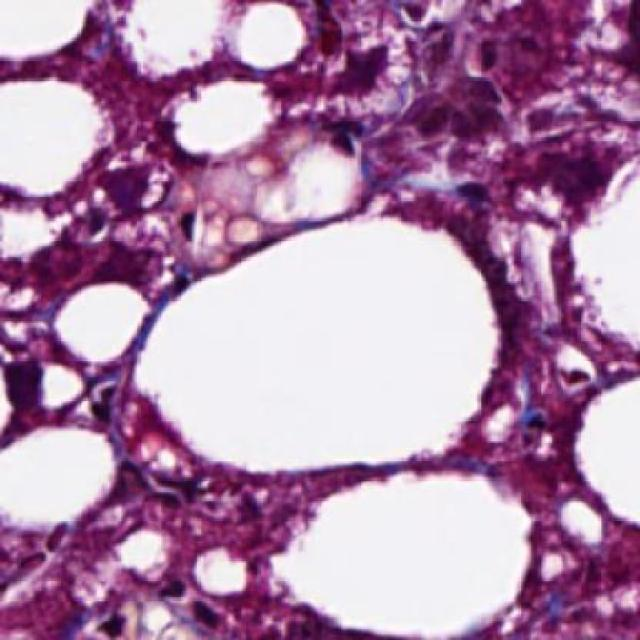inflammation: (299, 20, 423, 132)
